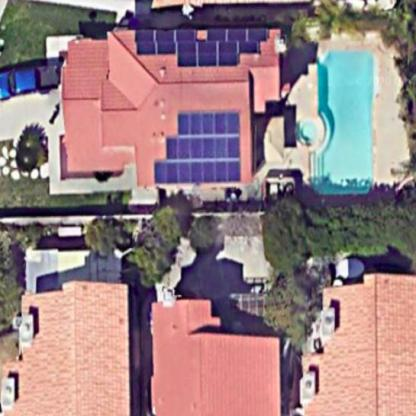car: (3, 58, 62, 107)
solar_panel: (144, 98, 247, 194), (132, 21, 276, 72)
swimming_pool: (299, 27, 386, 209)
